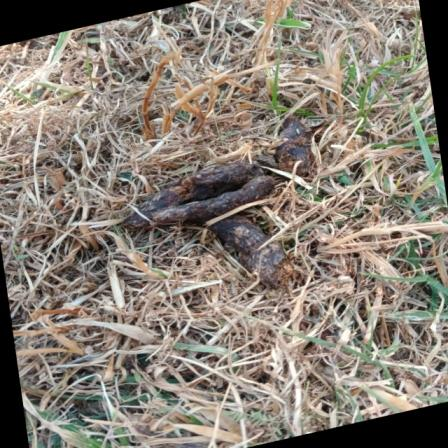dog-poop: (140, 140, 308, 292)
